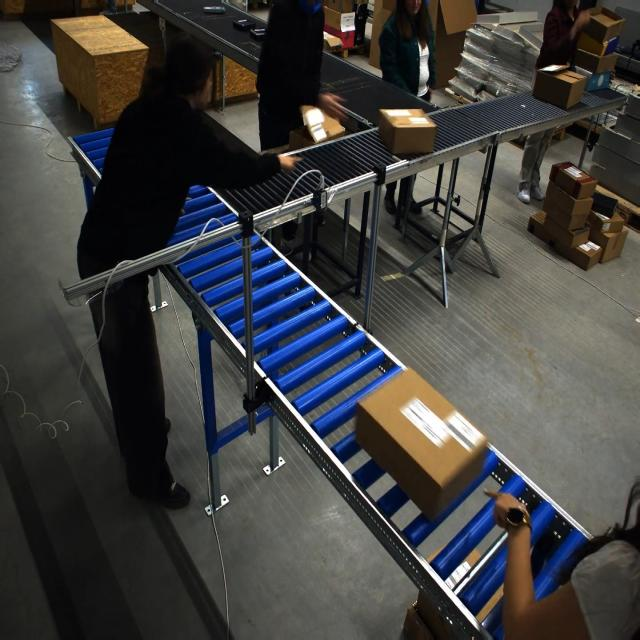box: (358, 375, 481, 497), (376, 108, 434, 156), (304, 104, 340, 146)
product: (232, 19, 255, 31), (249, 28, 266, 39), (203, 6, 226, 13)
